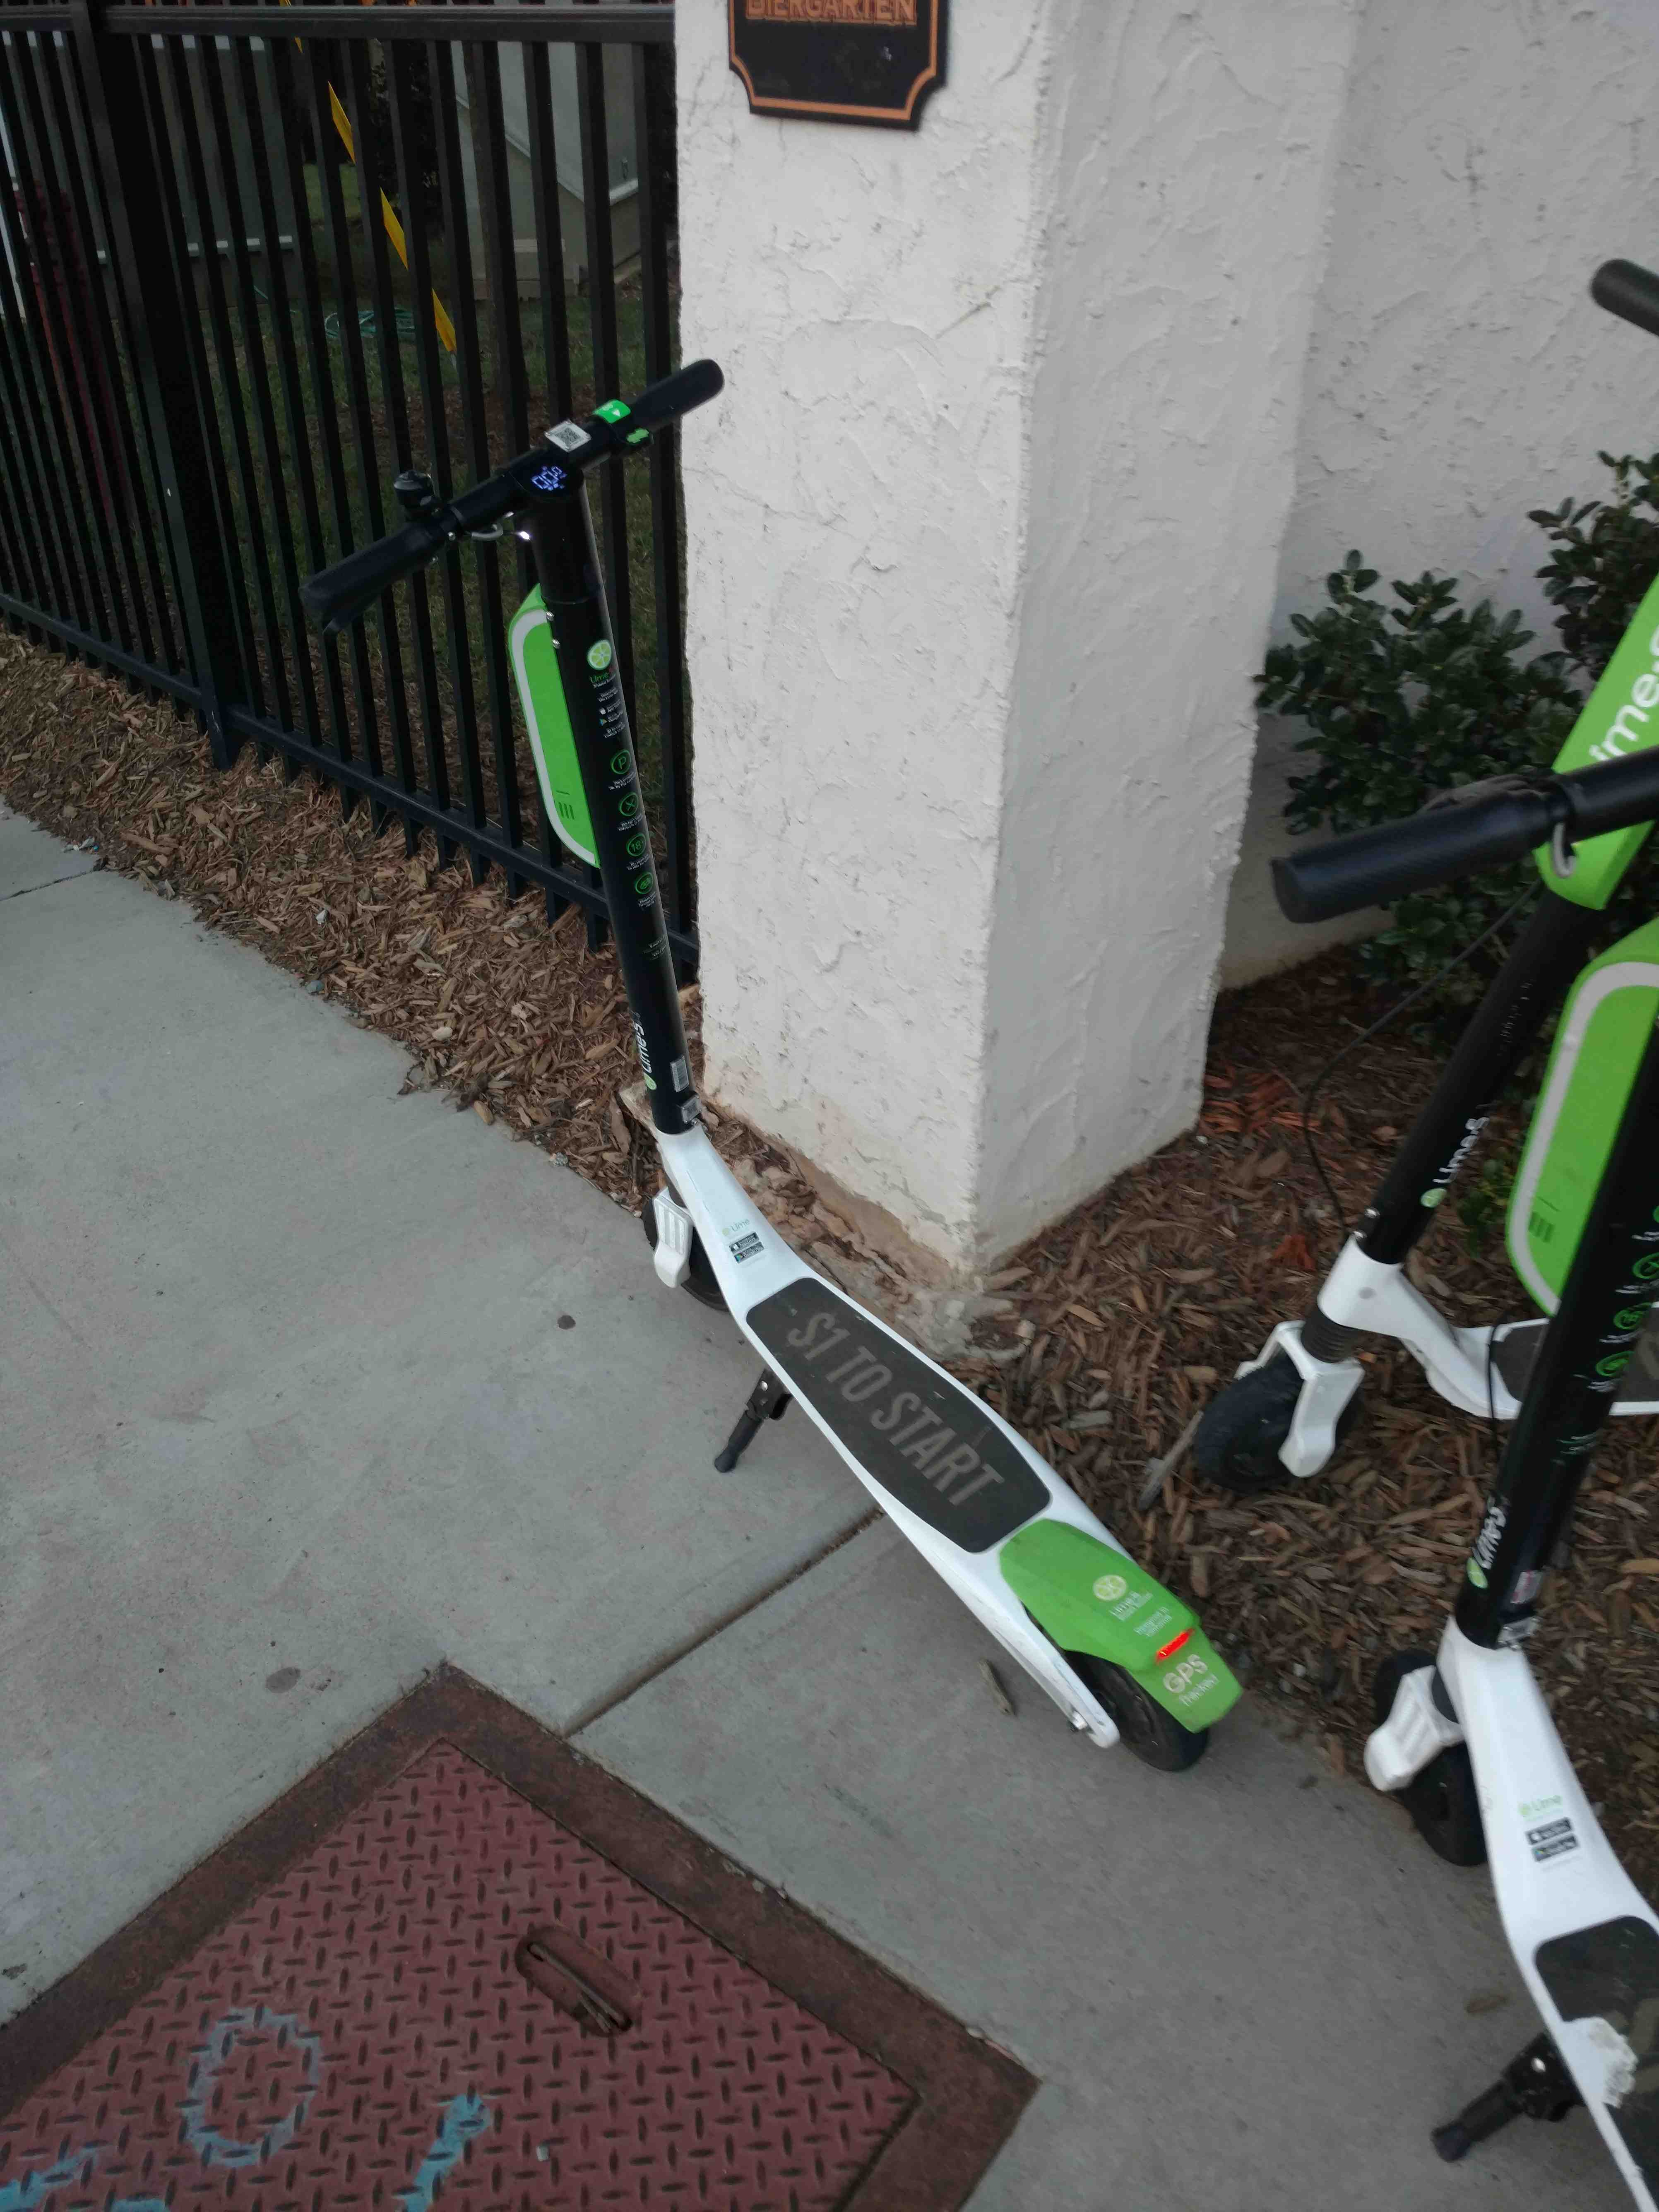scooter: (258, 338, 1262, 1782)
